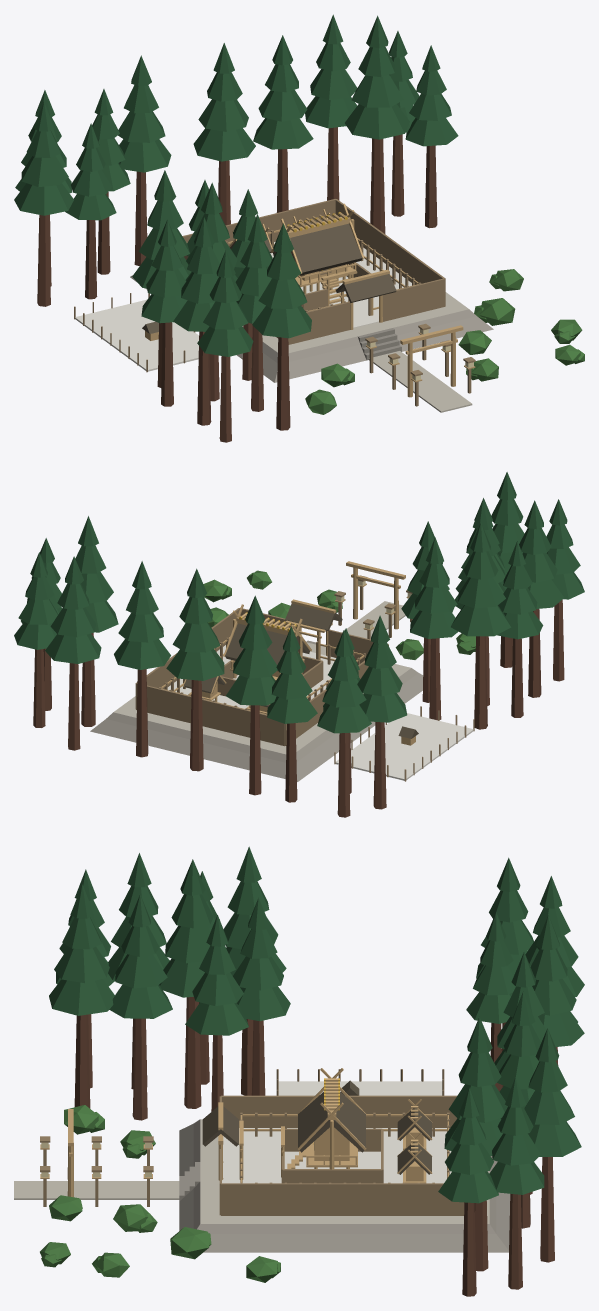
File: ise-jingu.glb
3 renders of one model, top to bottom at view 1: azimuth 30°, elevation 25°; view 2: azimuth 150°, elevation 25°; view 3: azimuth 270°, elevation 25°, orthographic. The views are drawn at different scales.
Visible parts, largest first — view 1: ise_cedar, ise_bark, ise_hinokidk, ise_pebble, ise_stone, ise_leaf, ise_hinoki, ise_pave, ise_thatch; view 2: ise_cedar, ise_bark, ise_hinokidk, ise_stone, ise_pebble, ise_hinoki, ise_pave, ise_leaf, ise_thatch; view 3: ise_cedar, ise_hinokidk, ise_bark, ise_stone, ise_pebble, ise_pave, ise_hinoki, ise_leaf, ise_thatch.
Part boxes in pixels (x1,y1,x2,y2): ise_cedar: (14,14,458,356); ise_bark: (37,127,437,442); ise_hinokidk: (74,199,475,406); ise_pebble: (75,242,411,371); ise_stone: (130,275,493,382); ise_leaf: (305,269,584,414); ise_hinoki: (145,203,475,397); ise_pave: (242,292,472,412); ise_thatch: (142,219,396,333); ise_cedar: (14,472,584,733); ise_bark: (33,599,564,817); ise_hinokidk: (135,575,474,781); ise_stone: (90,640,423,781); ise_pebble: (167,645,473,780); ise_hinoki: (161,561,415,745); ise_pave: (113,601,410,754); ise_leaf: (203,570,475,659); ise_thatch: (184,603,418,738); ise_cedar: (49,846,584,1203); ise_hinokidk: (40,1069,464,1215); ise_bark: (74,997,558,1296); ise_stone: (179,1119,510,1252); ise_pebble: (222,1081,451,1183); ise_pave: (14,1119,489,1223); ise_hinoki: (40,1068,448,1197); ise_leaf: (40,1105,280,1282); ise_thatch: (202,1080,431,1174).
Size of the model in its own units: 21.81 by 10.74 by 22.08.
